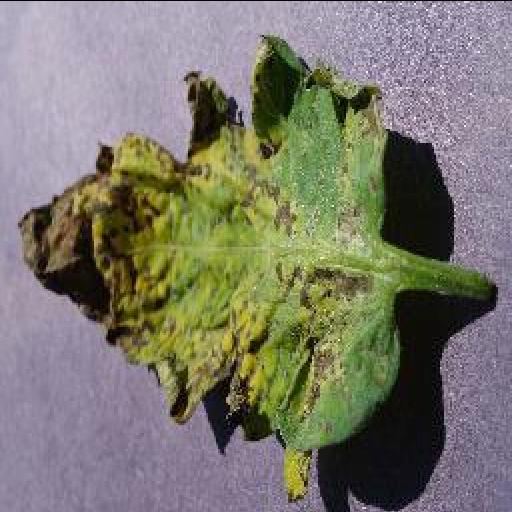disease_tomato: (14, 33, 404, 497)
